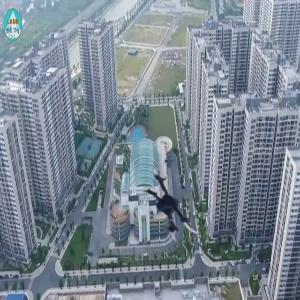drone: (137, 164, 218, 245)
